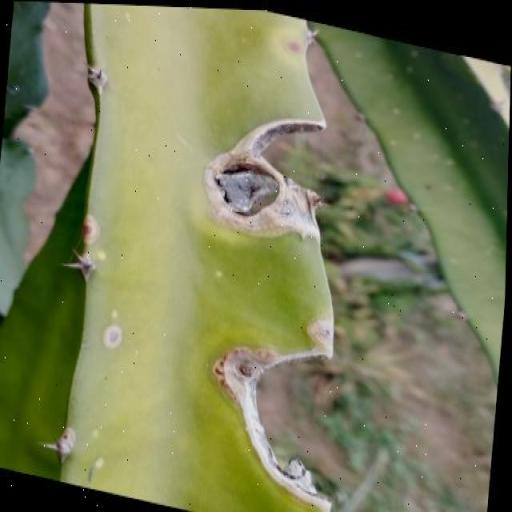stemcanker: (102, 322, 128, 356), (282, 35, 306, 62), (93, 452, 106, 474), (94, 244, 108, 264), (211, 266, 227, 282), (109, 305, 122, 321), (90, 426, 101, 444)
